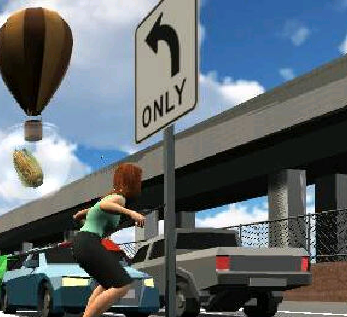arrow_left: (138, 20, 187, 77)
